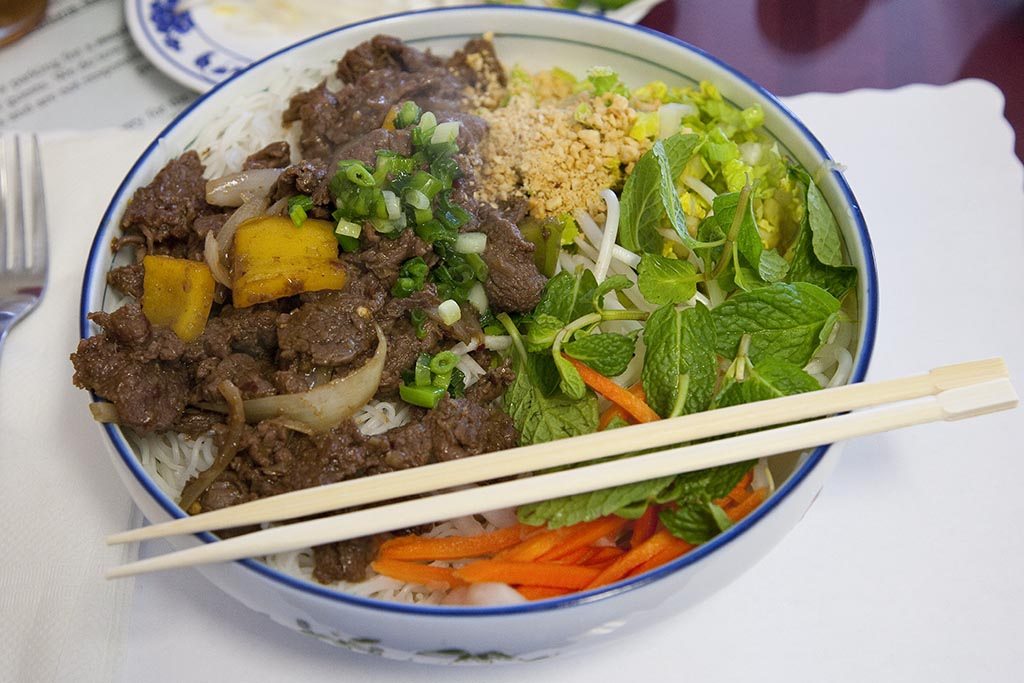chopped lettuce: (503, 119, 859, 424)
